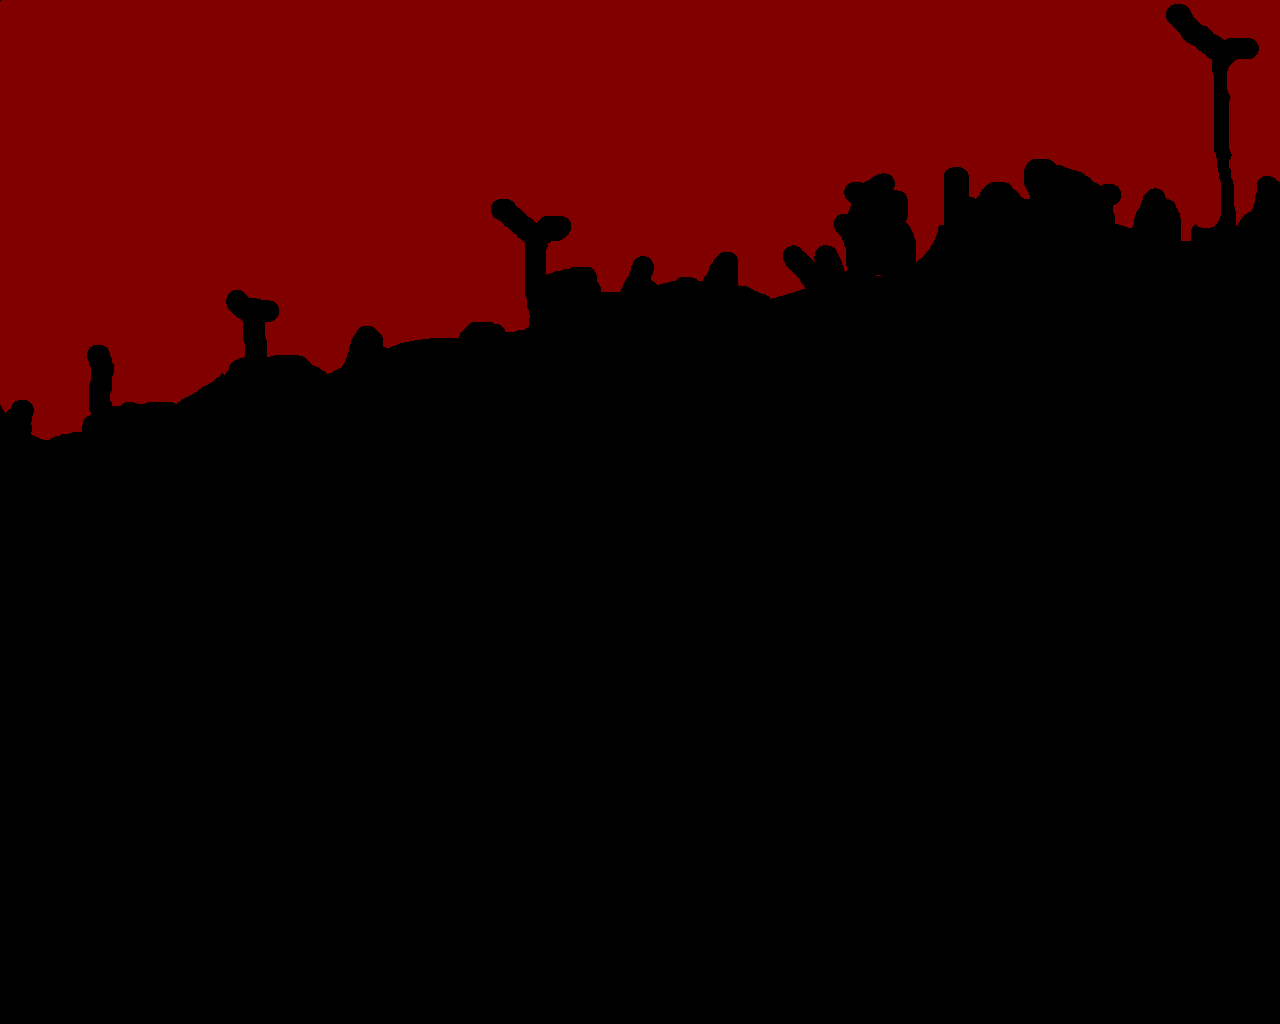Sky: (1, 1, 1279, 440)
